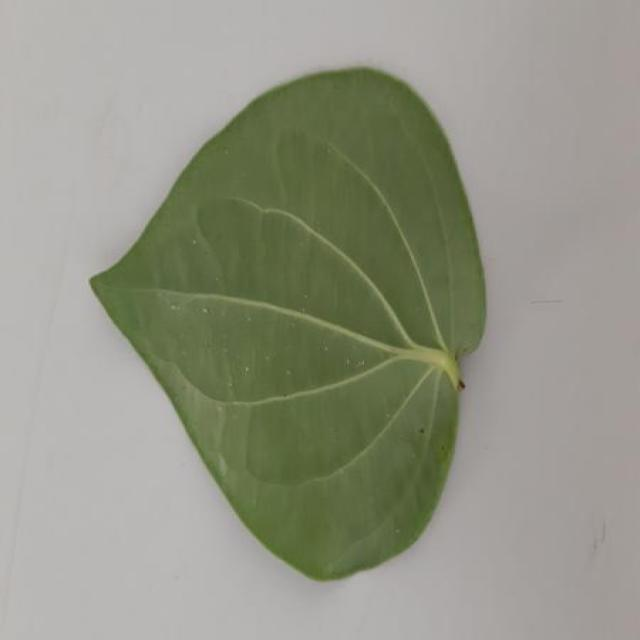betel: (92, 69, 485, 580)
